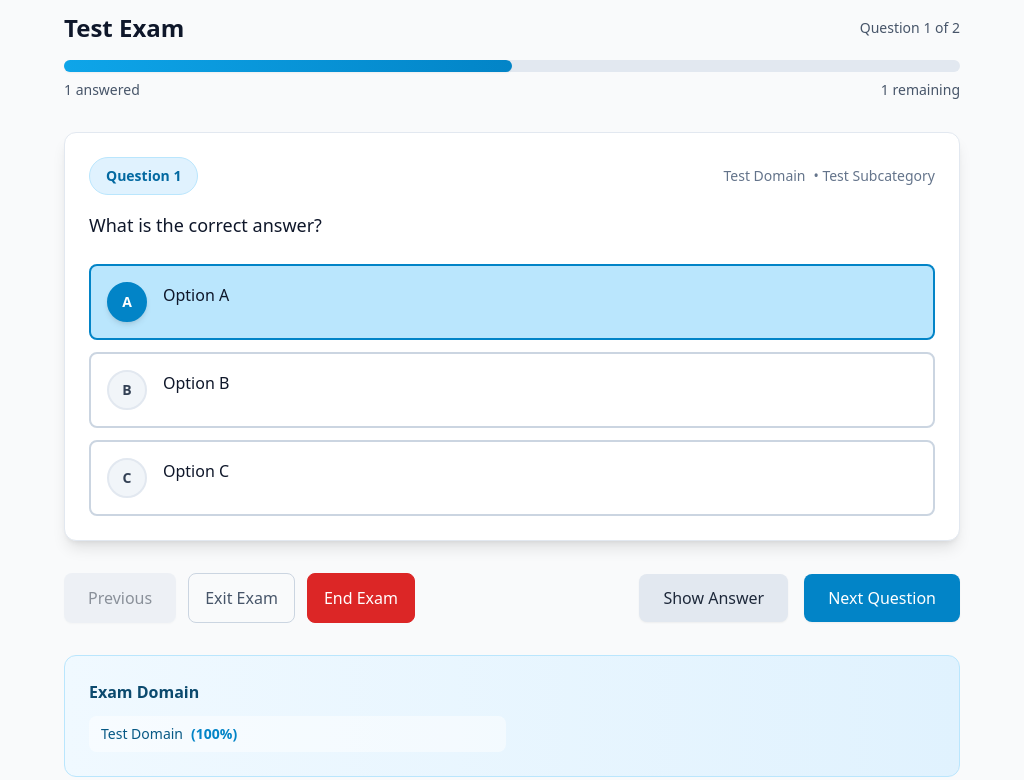
Test: QuizInterface › should show explanations when Show Answer is clicked
The width and height of the screenshot is (1024, 780).
Click the button "Show Answer": (714, 598) [639, 574, 788, 622]
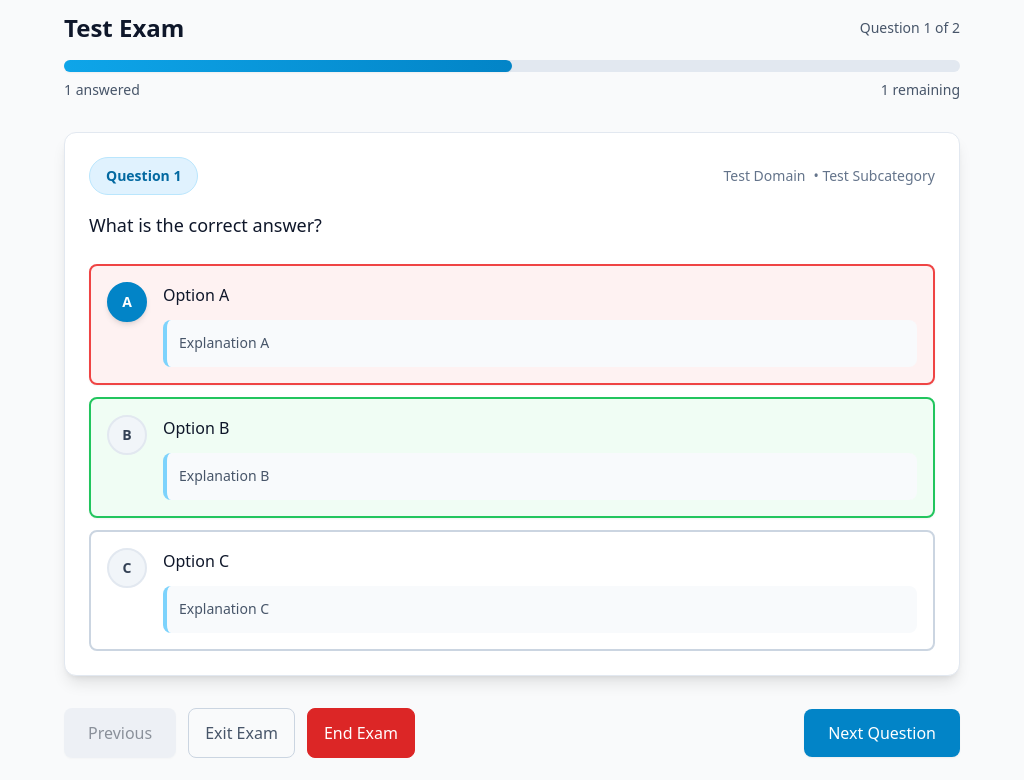
expect the text "Explanation A" is shown: met, box [163, 320, 917, 367]
expect the text "Explanation B" is shown: met, box [163, 453, 917, 500]
expect the text "Explanation C" is shown: met, box [163, 586, 917, 633]
